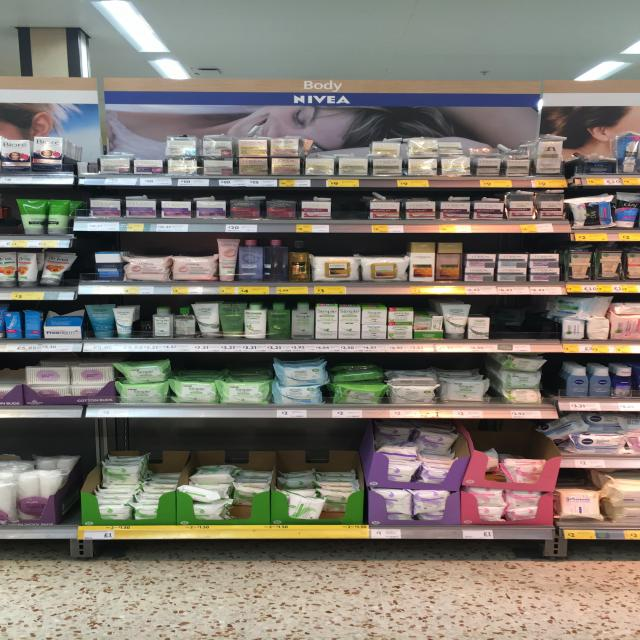void: (492, 298, 520, 354), (526, 300, 551, 352), (335, 192, 366, 232)
